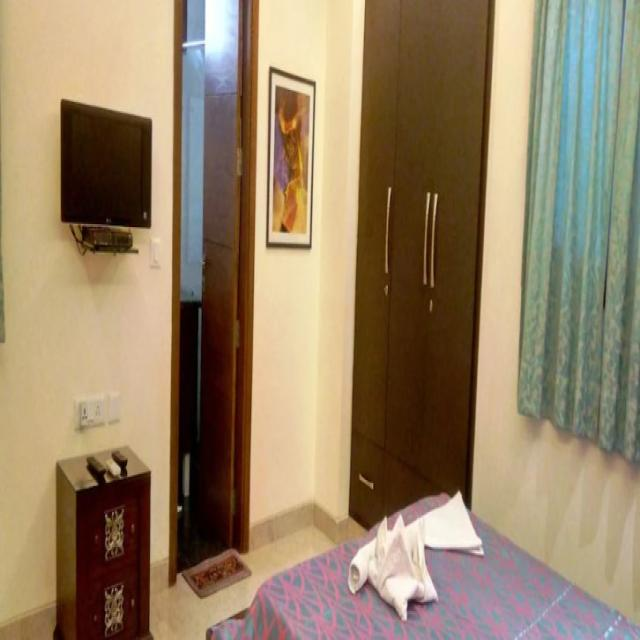Non_Damaged: (5, 3, 636, 640)
